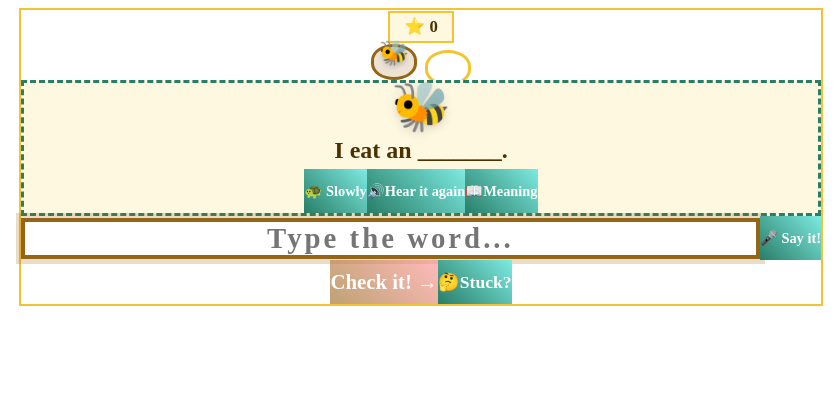
Test: SpellMode Component › shows the word when the child is stuck
Click the button "🤔 Stuck?": [475, 282] box [438,260,512,304]
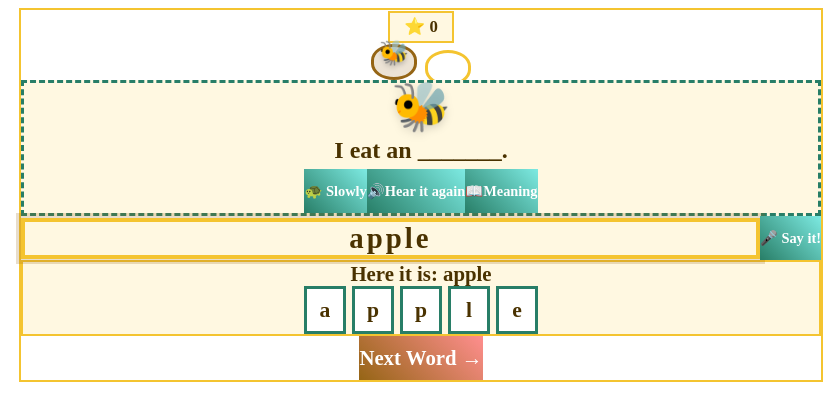
Expected: the field with placeholder "Type the word..." holds "apple", [21,218,760,259]
Expected: the text "Here it is: apple" is shown, [350,262,492,285]
